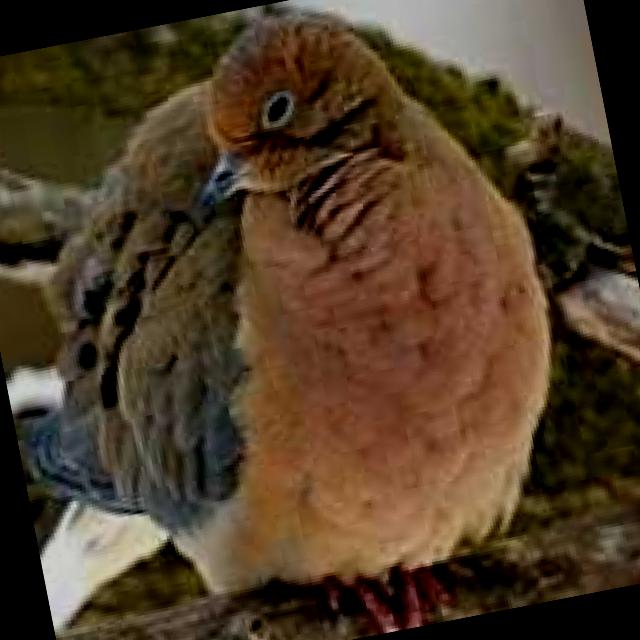bird: (0, 0, 614, 640)
